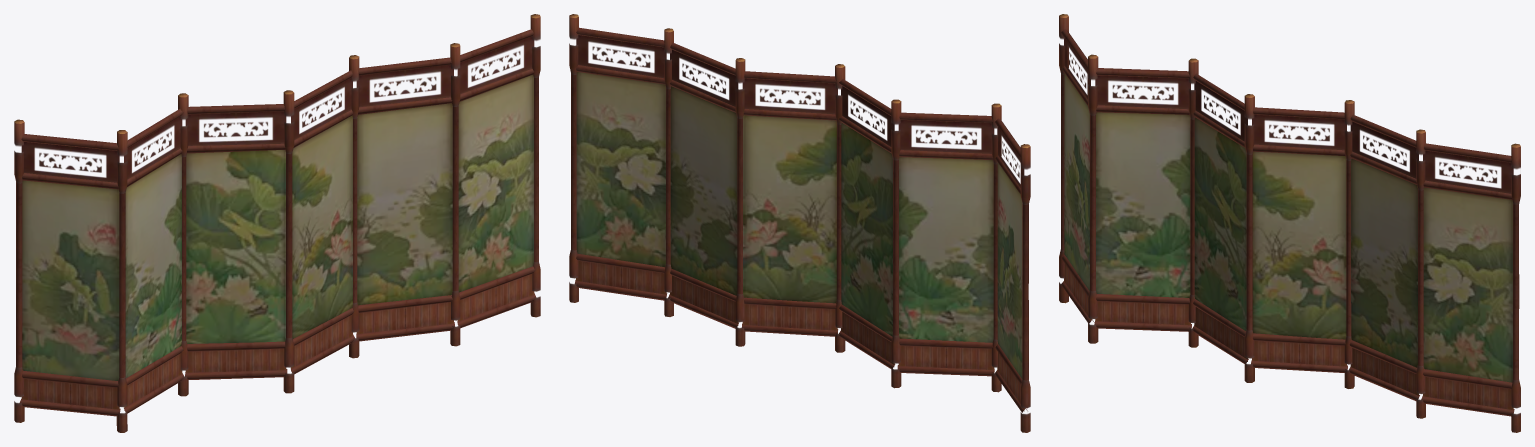
File: Screen.glb
3 renders of one model, left to right at view 1: azimuth 30°, elevation 25°; view 2: azimuth 150°, elevation 25°; view 3: azimuth 330°, elevation 25°, orthographic. The views are drawn at different scales.
Parts seen in each view (by area): view 1: Obj3d66-1651272-3-223; view 2: Obj3d66-1651272-3-223; view 3: Obj3d66-1651272-3-223.
Part boxes in pixels (x1,y1,x2,y2): Obj3d66-1651272-3-223: (14, 14, 540, 432); Obj3d66-1651272-3-223: (569, 14, 1030, 432); Obj3d66-1651272-3-223: (1059, 14, 1520, 432).
Size of the model in its own units: 1.52 by 0.8624 by 0.2227.
1 material, 1 textured.
